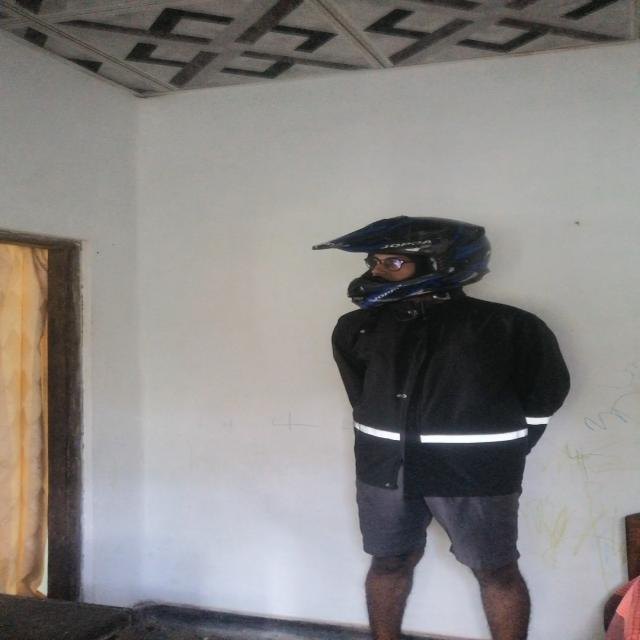Helmet_Wearer: (320, 208, 499, 312)
Jacket_Wearer: (324, 294, 568, 502)
Person: (302, 202, 564, 640)
